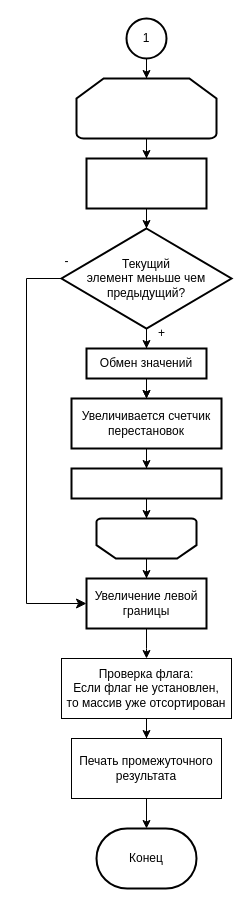
The diagram is 250 pixels wide and 906 high, and some of its shapes have lost their labels. Here are the shapes that lost their labels. From the top down, the centre of each, then its label:
At point (146, 108): "Цикл Б Обратный подход( справа налево)".
At point (146, 183): "Увеличивается счетчик сравнений".
At point (146, 483): "Установка флага".
At point (146, 538): "Цикл Б".
